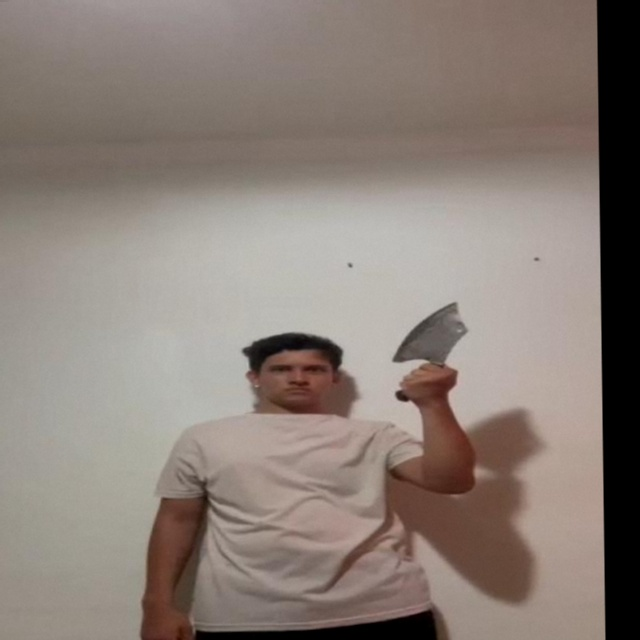Sharp-Object: (392, 297, 473, 362)
